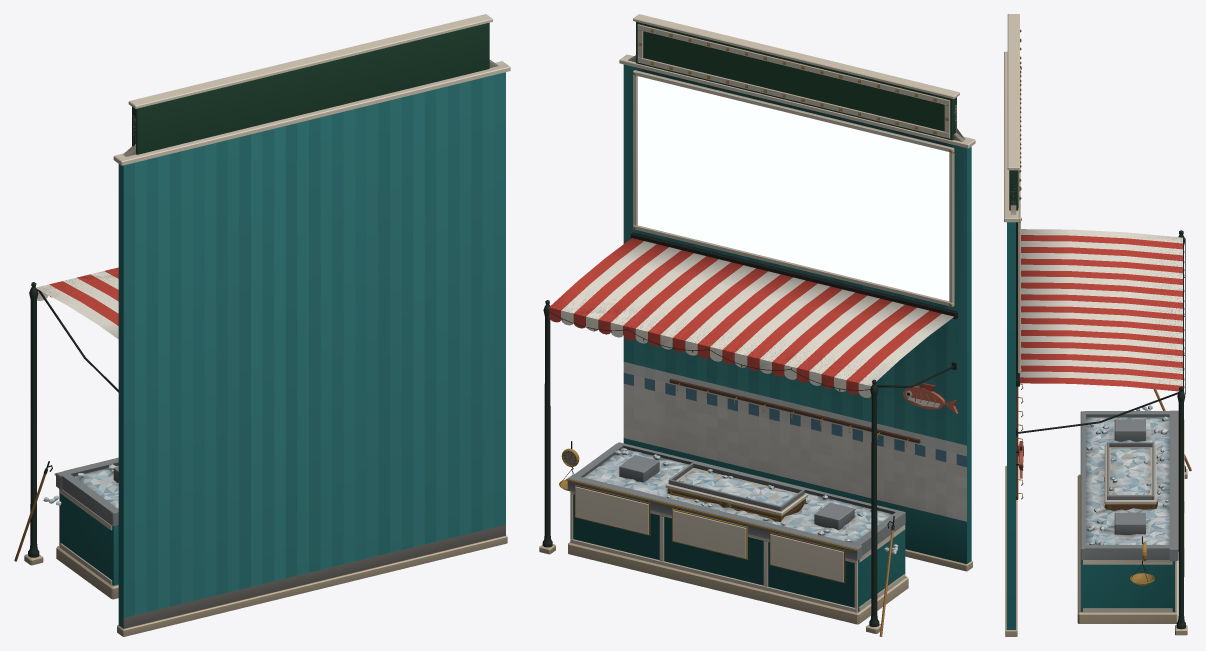
The model's file is pav_fishshowcase.glb.
3 views of the same model, side by side, from view 1: azimuth 30°, elevation 25°; view 2: azimuth 150°, elevation 25°; view 3: azimuth 270°, elevation 25° (orthographic). The views are drawn at different scales.
Visible parts, largest first — view 1: static_fishshowcase; view 2: static_fishshowcase, live_board_records; view 3: static_fishshowcase.
Boxes of the visible parts, left/top/right/bottom form: static_fishshowcase: left=14, top=14, right=510, bottom=636; static_fishshowcase: left=539, top=14, right=975, bottom=636; live_board_records: left=637, top=76, right=949, bottom=300; static_fishshowcase: left=1004, top=14, right=1191, bottom=636.
Size of the model in its own units: 6.74 by 8.7 by 3.19.
